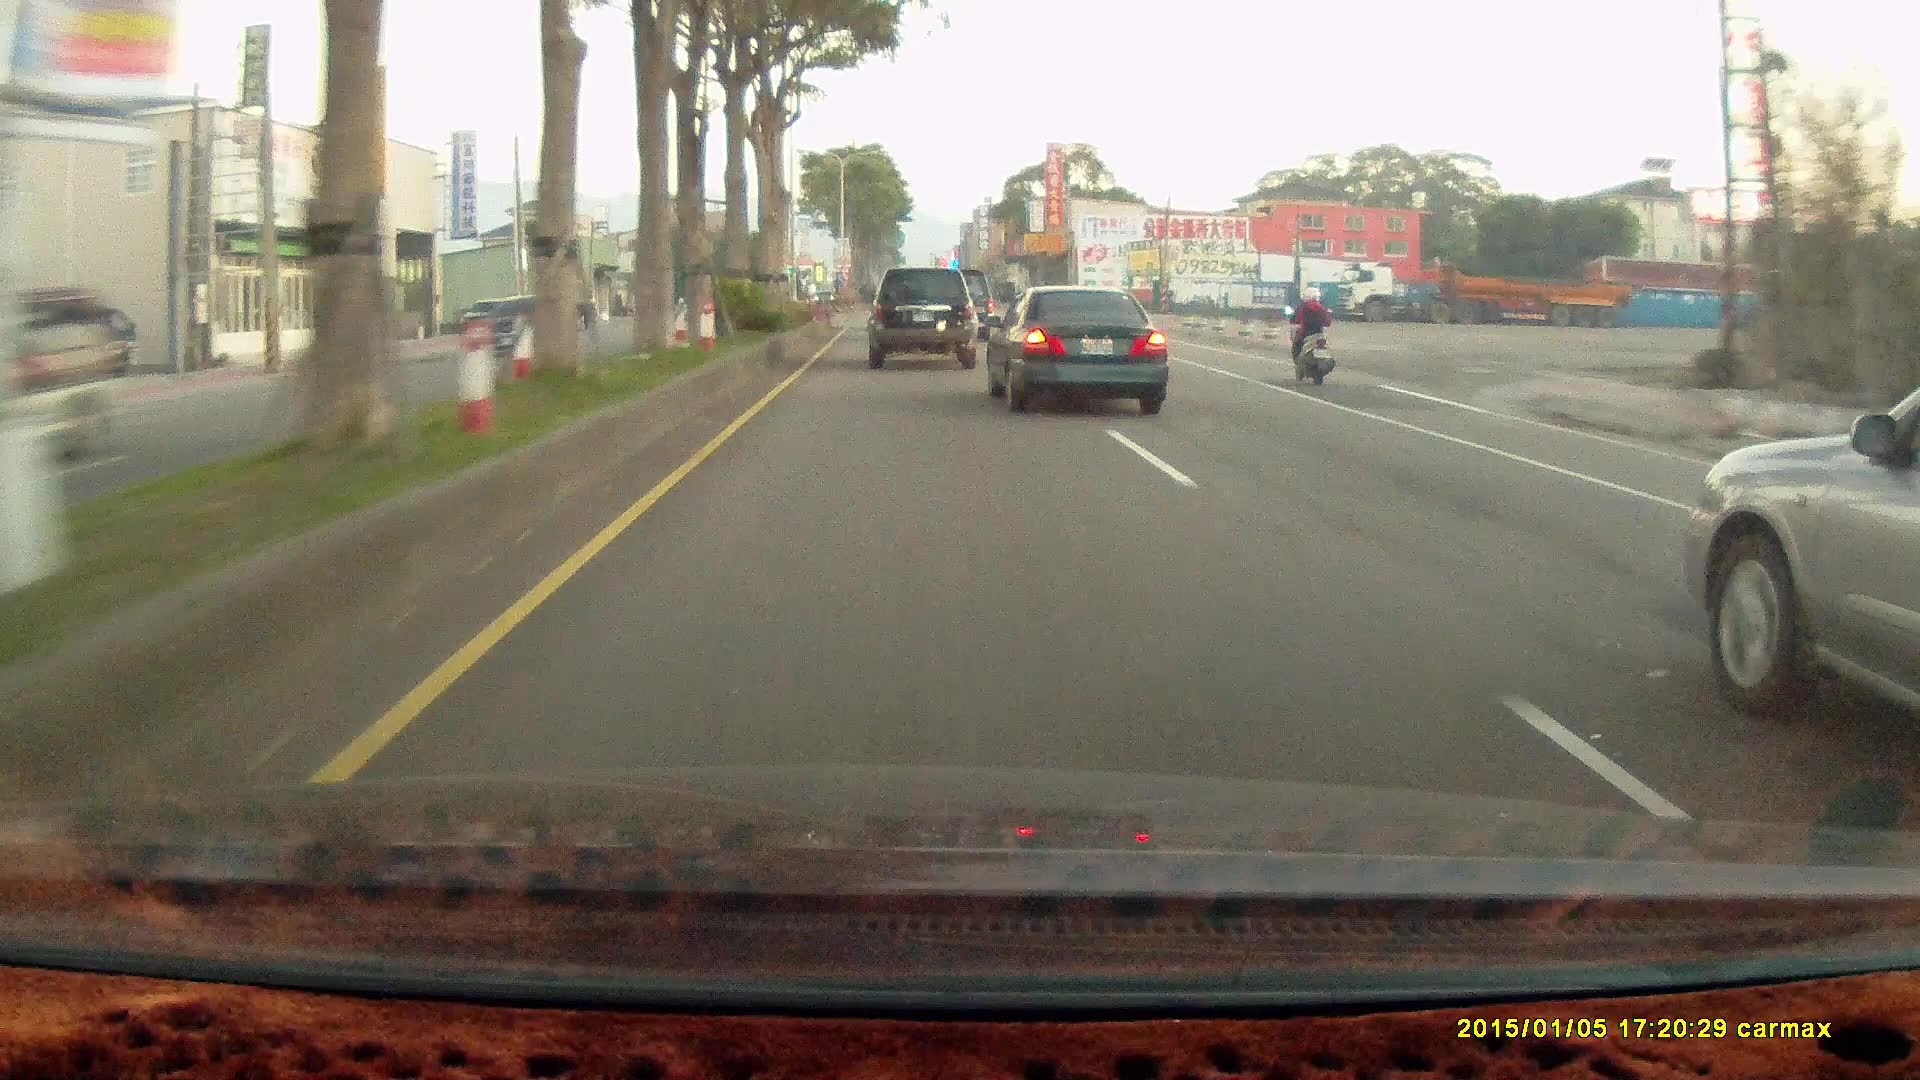rider: (1276, 277, 1344, 395), (1284, 284, 1334, 385)
vehicle: (1692, 378, 1920, 746), (984, 285, 1168, 414), (985, 285, 1170, 413), (1, 285, 131, 460), (1342, 259, 1631, 328), (866, 266, 981, 374), (864, 266, 976, 367), (476, 295, 579, 361), (926, 270, 997, 344), (461, 295, 517, 334)
